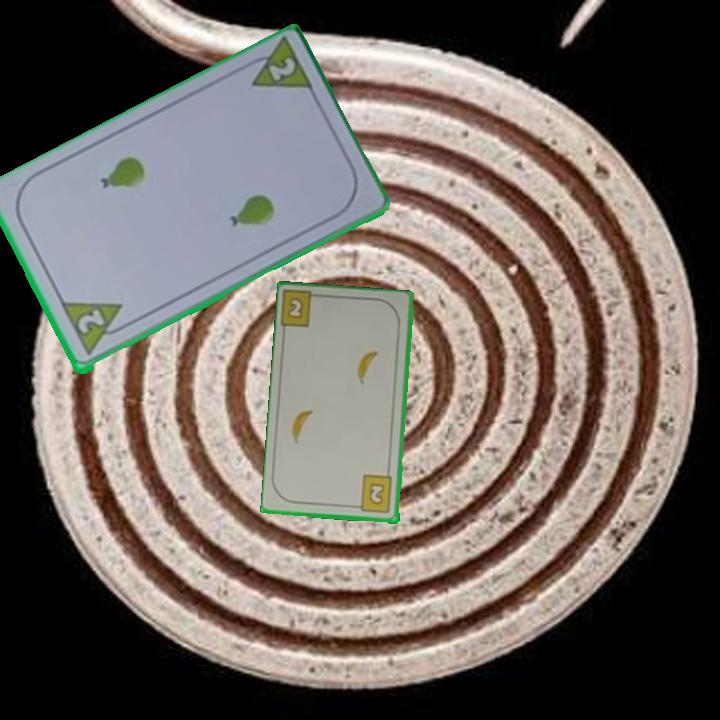2b: (279, 289, 326, 331), (351, 472, 395, 516)
2p: (58, 298, 134, 360), (264, 54, 299, 85)
